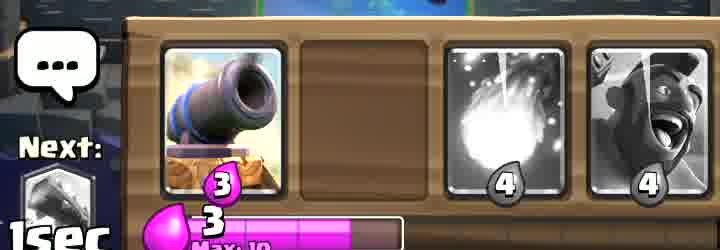cannon: (171, 48, 284, 188)
hog-rider: (586, 60, 683, 202)
